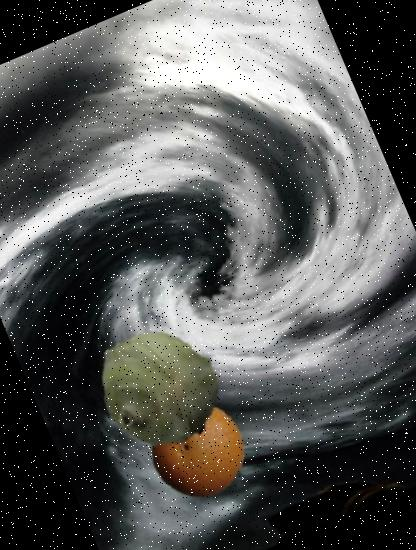Kohlrabi: (74, 303, 242, 470)
Orange: (134, 388, 260, 514)
